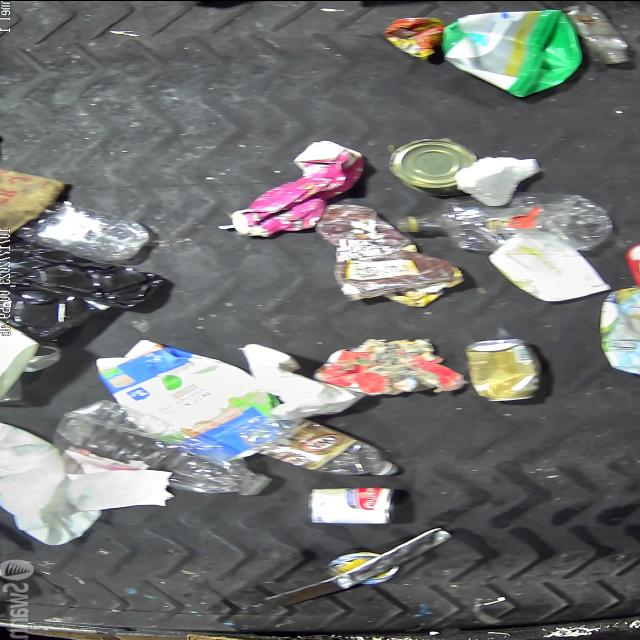can: (465, 338, 545, 402), (388, 139, 478, 191), (306, 486, 398, 526)
milk_jug: (0, 415, 97, 545), (624, 233, 640, 336)
non_white_jug: (96, 339, 280, 459), (599, 287, 640, 374)
plastic_bottle: (59, 399, 269, 495), (397, 194, 615, 254), (242, 413, 397, 475), (10, 202, 149, 264), (564, 0, 634, 66)
